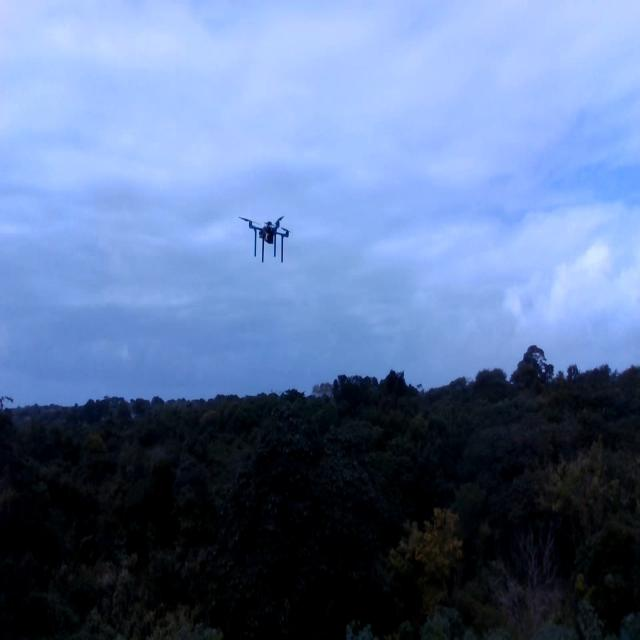-uav-: (231, 193, 298, 283)
